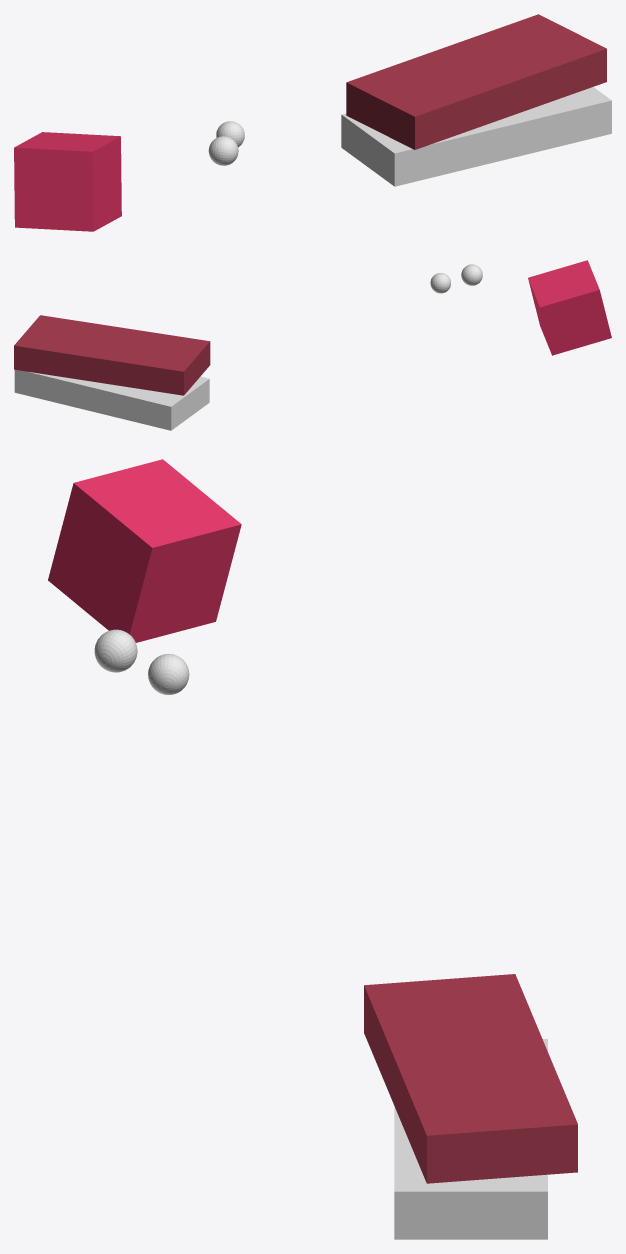
Rendered from monkey.glb.
3 views of the same model, one above another, from view 1: azimuth 30°, elevation 25°; view 2: azimuth 150°, elevation 25°; view 3: azimuth 270°, elevation 25° (orthographic). The views are drawn at different scales.
Parts seen in each view (by area): view 1: Cube.002, Cube.001, Cube, Sphere.001, Sphere; view 2: Cube.002, Cube.001, Cube, Sphere.001, Sphere; view 3: Cube.002, Cube, Cube.001, Sphere.001, Sphere.
Part boxes in pixels (box(x1,y1,x2,y2)): Cube.002: box(346, 14, 606, 149); Cube.001: box(341, 87, 611, 186); Cube: box(14, 132, 121, 231); Sphere.001: box(208, 136, 238, 165); Sphere: box(216, 121, 244, 147); Cube.002: box(14, 315, 210, 395); Cube.001: box(14, 370, 209, 430); Cube: box(528, 260, 611, 355); Sphere.001: box(461, 264, 482, 285); Sphere: box(430, 273, 450, 293); Cube.002: box(364, 974, 577, 1183); Cube: box(48, 459, 241, 642); Cube.001: box(394, 1039, 547, 1239); Sphere.001: box(94, 629, 137, 672); Sphere: box(148, 654, 189, 694).
Size of the model in its own units: 15.01 by 4.5 by 6.9.
